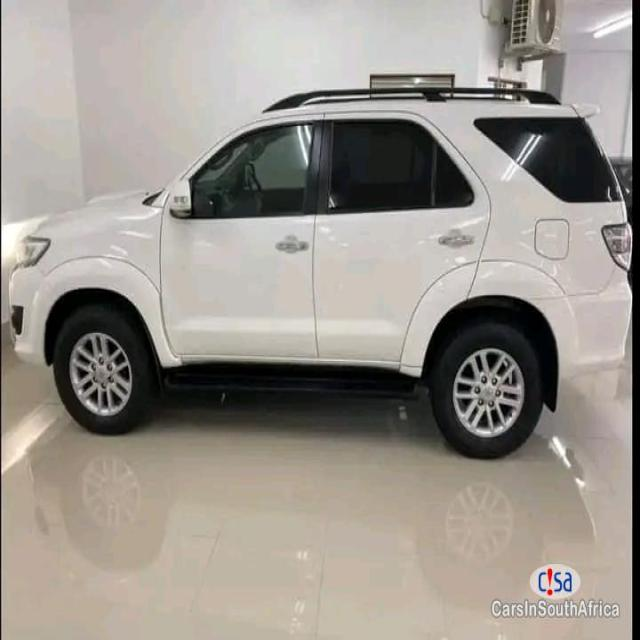light_vehicle: (9, 77, 633, 460)
